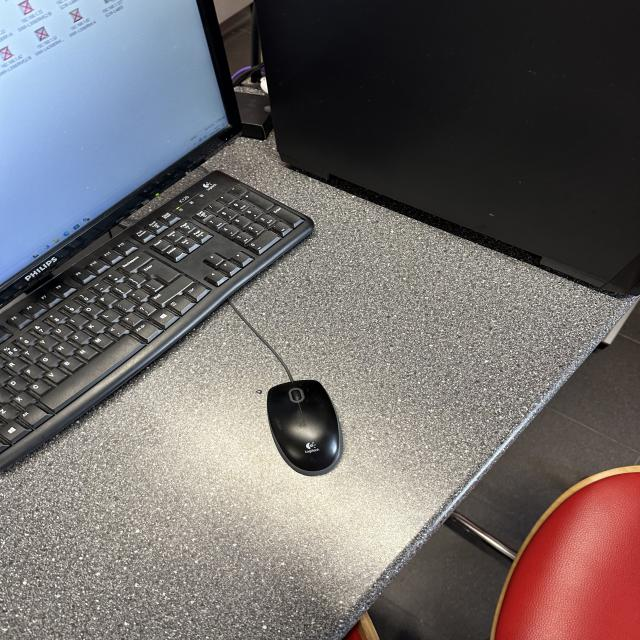mysz: (258, 374, 354, 474)
